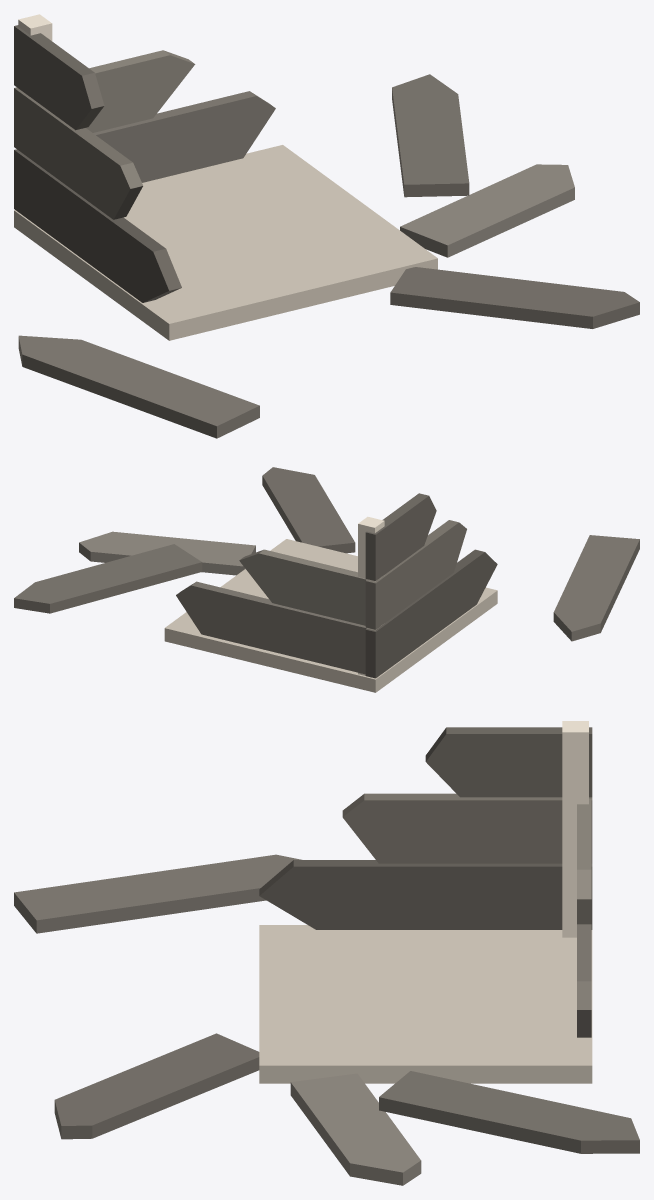
The model's file is SM_VKI_Overlay_Debris_Crate.fbx.
3 views of the same model, one above another, from view 1: azimuth 30°, elevation 25°; view 2: azimuth 150°, elevation 25°; view 3: azimuth 270°, elevation 25° (orthographic). The views are drawn at different scales.
Parts seen in each view (by area): view 1: SM_VKI_Overlay_Debris_Crate.001; view 2: SM_VKI_Overlay_Debris_Crate.001; view 3: SM_VKI_Overlay_Debris_Crate.001.
Part boxes in pixels (bbox=[...]): SM_VKI_Overlay_Debris_Crate.001: bbox=[14, 14, 639, 438]; SM_VKI_Overlay_Debris_Crate.001: bbox=[14, 467, 639, 692]; SM_VKI_Overlay_Debris_Crate.001: bbox=[14, 721, 639, 1185].
Bounding box in the file's own units: 1.12 × 0.37 × 0.9402.
